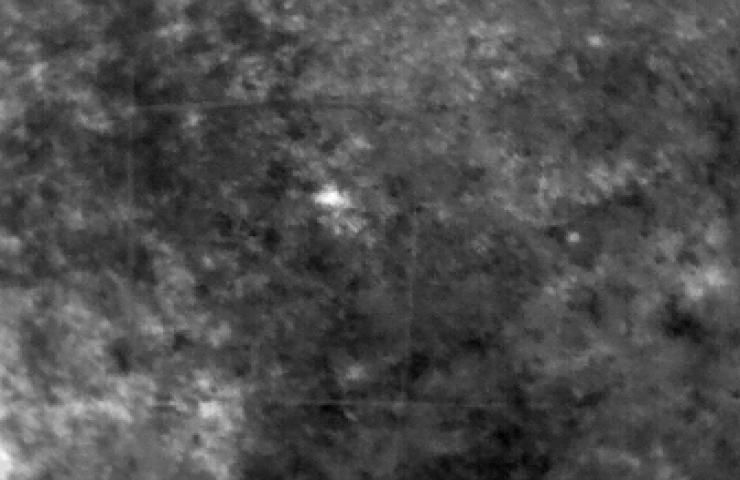landmines: (311, 179, 355, 212)
